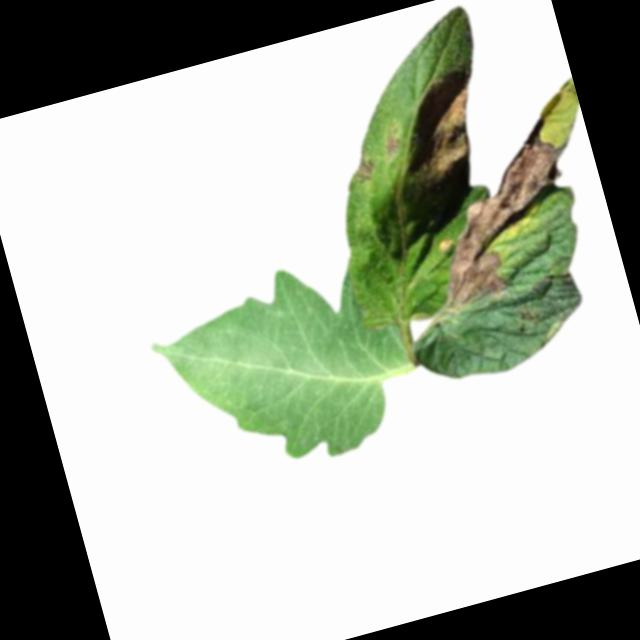Late_blight: (403, 112, 602, 314), (395, 66, 498, 192), (349, 153, 380, 184), (377, 125, 401, 161)
healthy: (135, 239, 433, 498)
